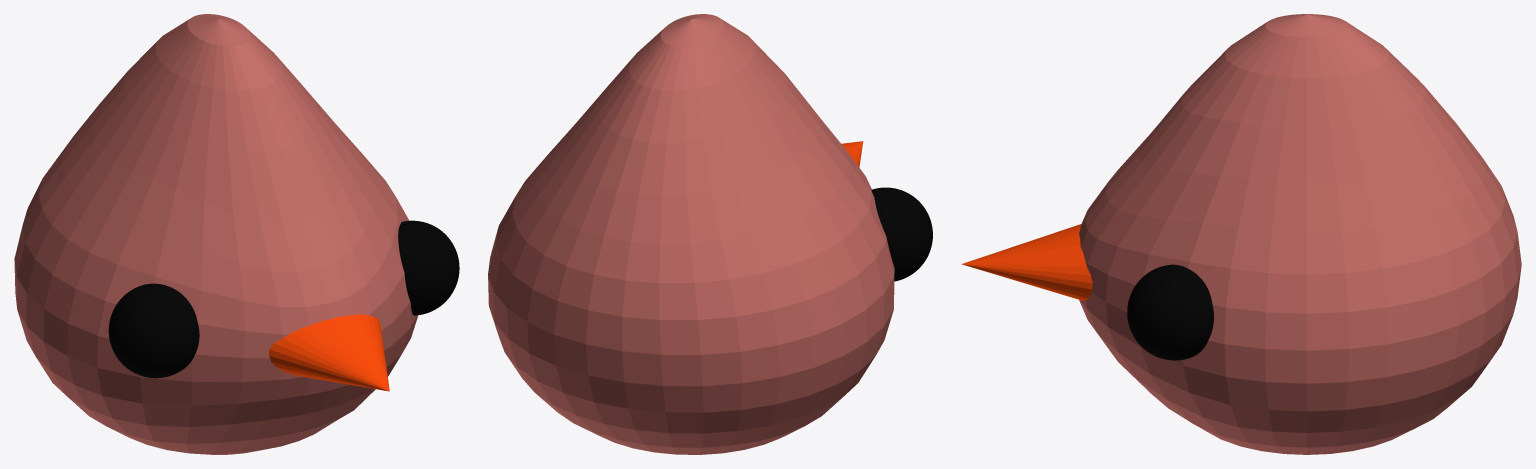
File: cardinal_f.glb
The picture shows the model from 3 angles, left to right: view 1: azimuth 30°, elevation 25°; view 2: azimuth 150°, elevation 25°; view 3: azimuth 270°, elevation 25°; orthographic projection.
Visible parts, largest first — view 1: Sphere, Sphere.001, Cone; view 2: Sphere, Sphere.001; view 3: Sphere, Sphere.001, Cone.
Part boxes in pixels (bbox=[...]): Sphere: bbox=[14, 14, 418, 454]; Sphere.001: bbox=[108, 220, 459, 378]; Cone: bbox=[268, 314, 389, 391]; Sphere: bbox=[488, 14, 894, 454]; Sphere.001: bbox=[871, 187, 932, 281]; Sphere: bbox=[1079, 14, 1521, 454]; Sphere.001: bbox=[1127, 264, 1213, 360]; Cone: bbox=[961, 224, 1092, 300].
Bounding box in the file's own units: 1.9 × 2.15 × 2.61.
